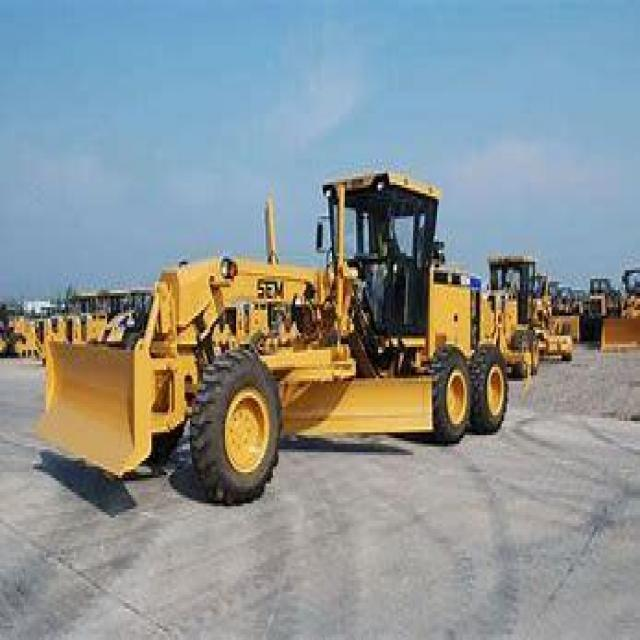Grader: (39, 159, 553, 498)
